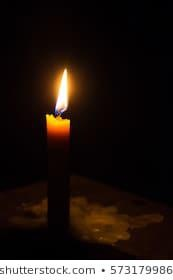fire: (53, 64, 71, 113)
